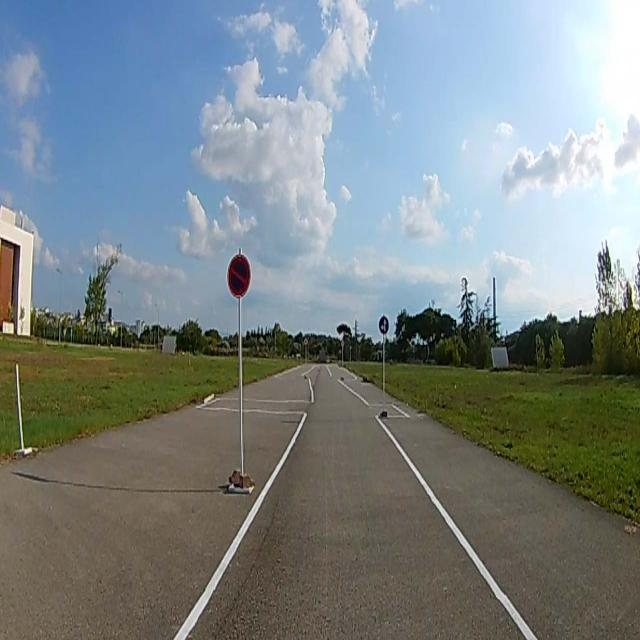parkyasak: (227, 256, 251, 296)
